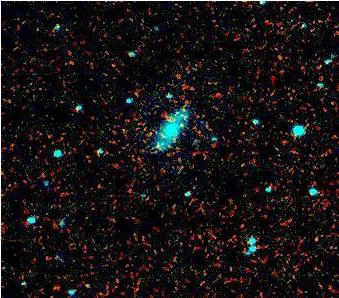star: (163, 106, 193, 136)
